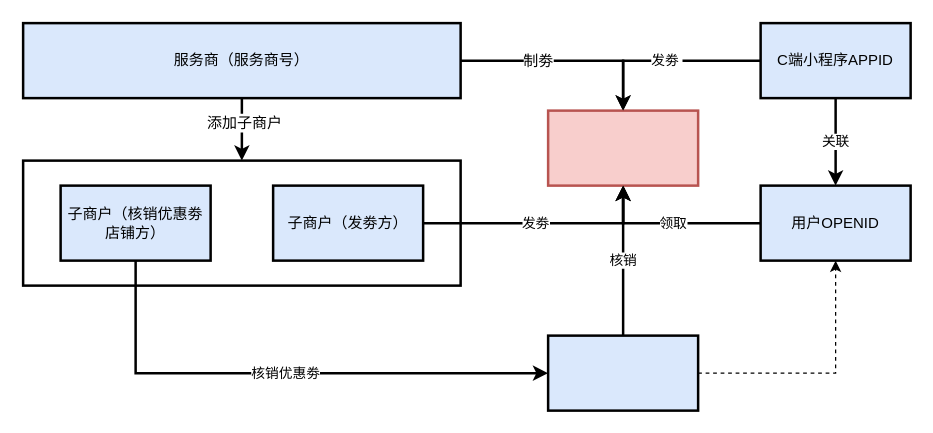
This 933x433 diagram has some shape labels left out. The shapes that lost their labels are listed below. From the top down, each one's centre as x and y in pixels, then its label:
At (x=622, y=147): "代金劵".
At (x=622, y=372): "支付小程序APPID".
